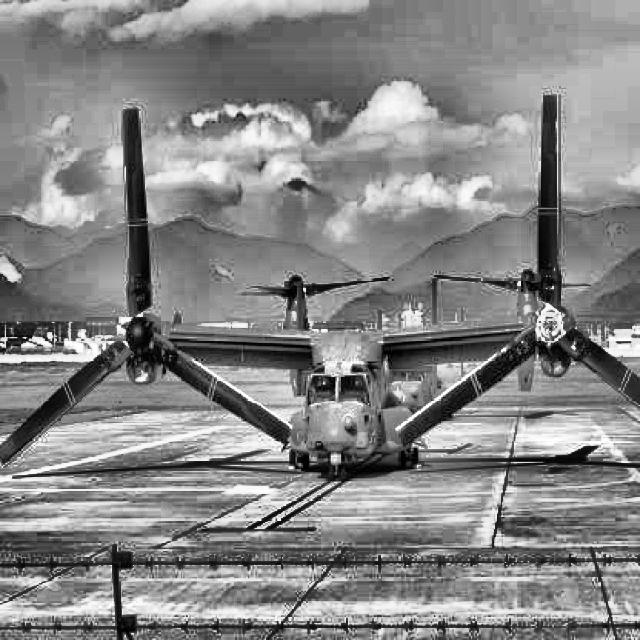V22: (0, 94, 640, 481), (239, 268, 592, 414)
